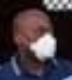with_facemask: (36, 35, 59, 61)
